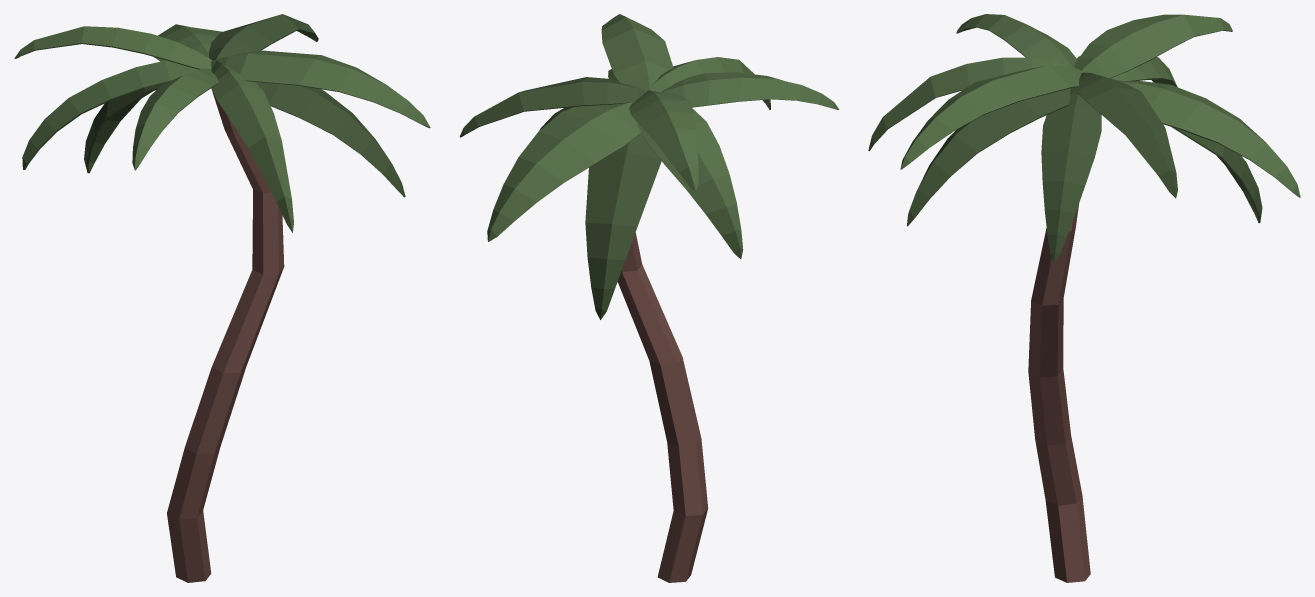
The picture shows the model from 3 angles, left to right: view 1: azimuth 30°, elevation 25°; view 2: azimuth 150°, elevation 25°; view 3: azimuth 270°, elevation 25°; orthographic projection. The views are drawn at different scales.
Visible parts, largest first — view 1: PalmTree_3; view 2: PalmTree_3; view 3: PalmTree_3.
Boxes of the visible parts, x1,y1,x2,y2 form: PalmTree_3: (14,14,430,582); PalmTree_3: (459,14,839,582); PalmTree_3: (868,14,1300,582).
Size of the model in its own units: 1.31 by 2.23 by 1.63.
